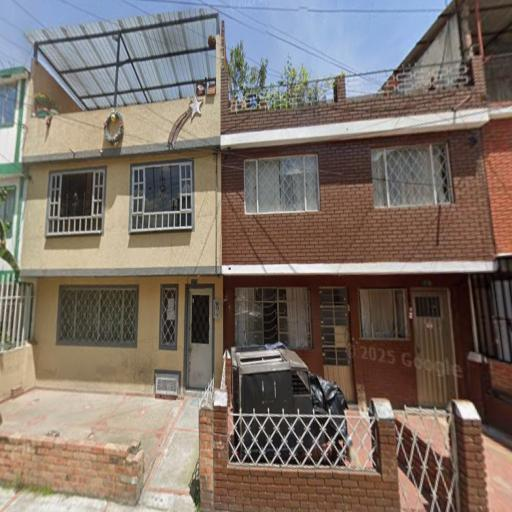Casa: (213, 53, 503, 414), (15, 9, 223, 399)
